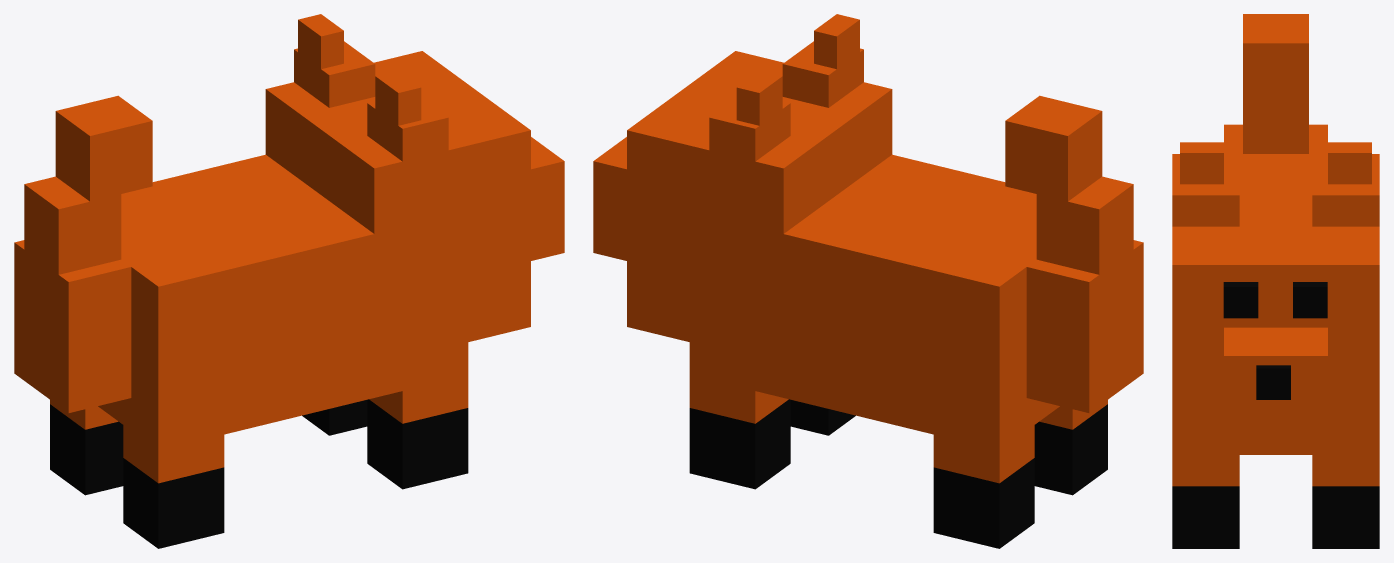
The model's file is fox.fbx.
3 renders of one model, left to right at view 1: azimuth 30°, elevation 25°; view 2: azimuth 150°, elevation 25°; view 3: azimuth 270°, elevation 25°, orthographic. The views are drawn at different scales.
Parts seen in each view (by area): view 1: pCube250; view 2: pCube250; view 3: pCube250.
Boxes of the visible parts, <box> form: pCube250: <box>14,14,564,548</box>; pCube250: <box>593,14,1143,548</box>; pCube250: <box>1172,14,1379,548</box>.
Bounding box in the file's own units: 0.8032 × 0.6 × 0.3.
